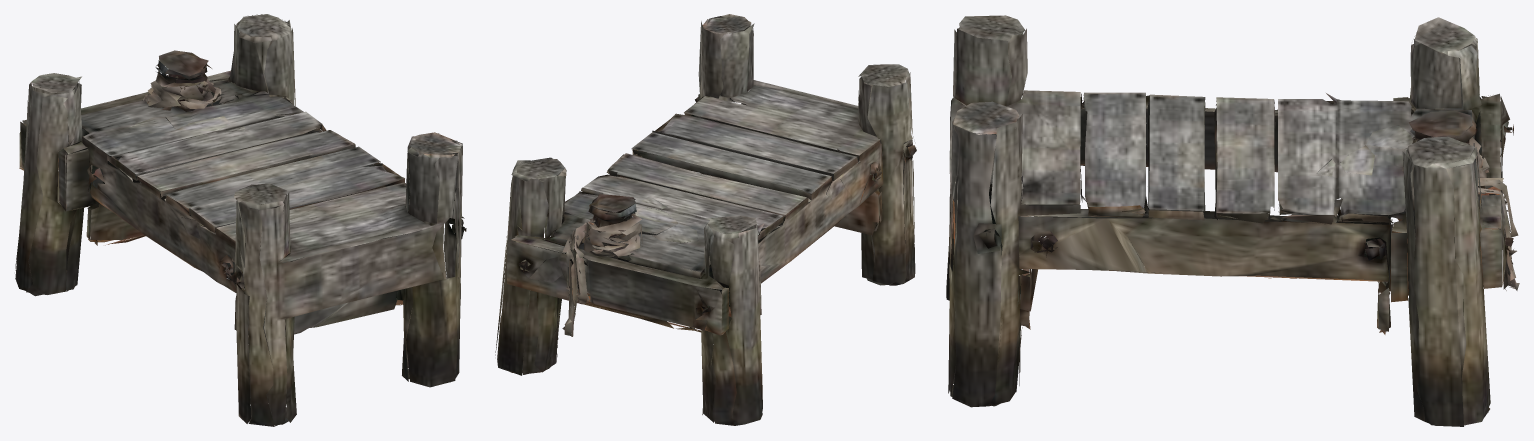
The model's file is kueste_steg.glb.
3 renders of one model, left to right at view 1: azimuth 30°, elevation 25°; view 2: azimuth 150°, elevation 25°; view 3: azimuth 270°, elevation 25°, orthographic. The views are drawn at different scales.
Visible parts, largest first — view 1: Prop; view 2: Prop; view 3: Prop.
Part boxes in pixels (x1,y1,x2,y2): Prop: [15, 14, 466, 426]; Prop: [495, 14, 916, 425]; Prop: [946, 15, 1519, 426].
Size of the model in its own units: 1.27 by 1.02 by 1.85.
Materials: 1 (1 with a texture image).
